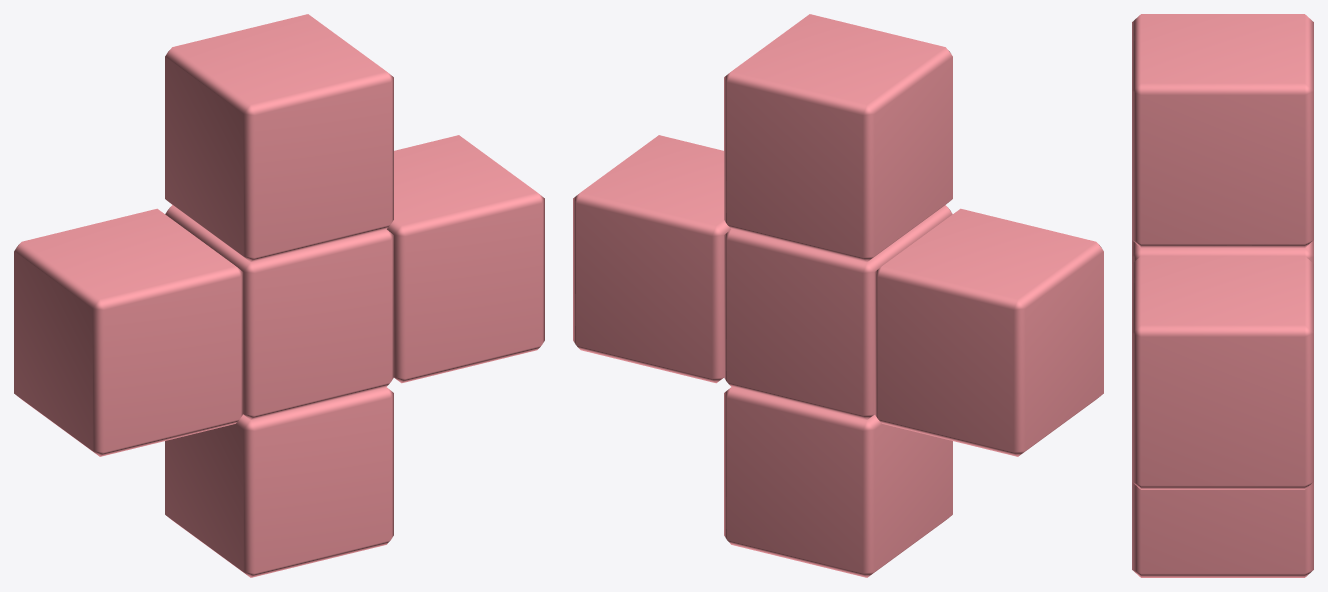
Rendered from FinBarbie1.fbx.
3 renders of one model, left to right at view 1: azimuth 30°, elevation 25°; view 2: azimuth 150°, elevation 25°; view 3: azimuth 270°, elevation 25°, orthographic. The views are drawn at different scales.
Visible parts, largest first — view 1: geo1; view 2: geo1; view 3: geo1.
Part boxes in pixels (left/top/right/bottom): geo1: left=14, top=14, right=544, bottom=577; geo1: left=573, top=14, right=1103, bottom=577; geo1: left=1132, top=14, right=1313, bottom=577.
Bounding box in the file's own units: 3 × 3 × 1.
